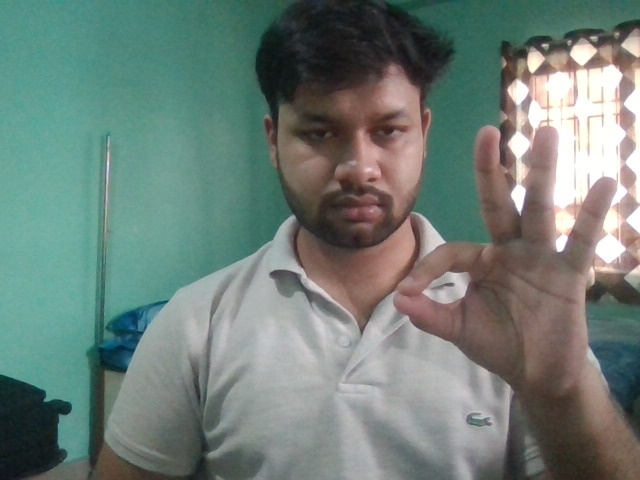Ok: (389, 121, 621, 404)
